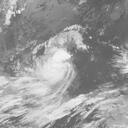cyclone: (18, 47, 76, 94)
